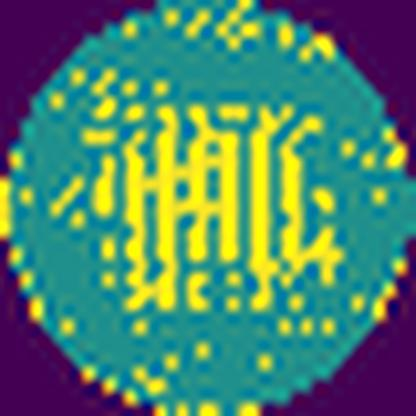Center: (95, 103, 343, 309)
